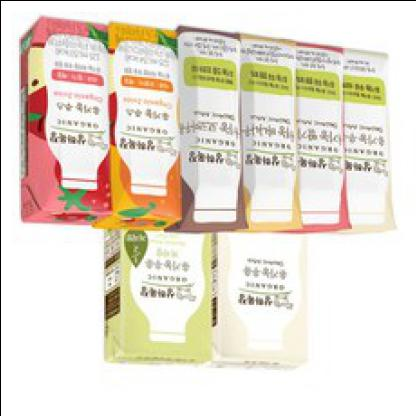tetra: (2, 7, 112, 239), (90, 11, 174, 248), (156, 22, 242, 248), (226, 18, 292, 241), (338, 38, 404, 242), (286, 31, 344, 240)
